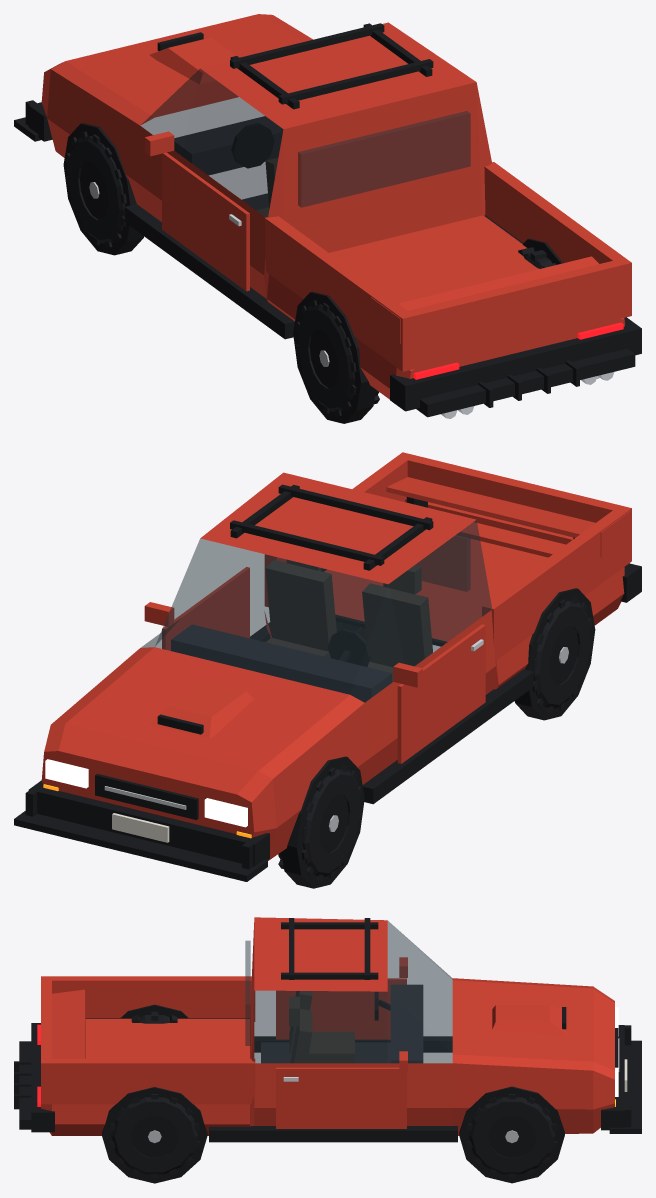
Rendered from pickup.glb.
3 views of the same model, one above another, from view 1: azimuth 30°, elevation 25°; view 2: azimuth 150°, elevation 25°; view 3: azimuth 270°, elevation 25° (orthographic). The views are drawn at different scales.
Visible parts, largest first — view 1: pickup, pickup_door_fl, pickup_wheel_rl, pickup_wheel_fl; view 2: pickup, pickup_door_fl, pickup_wheel_fl, pickup_wheel_rl, pickup_door_fr; view 3: pickup, pickup_door_fr, pickup_wheel_fr, pickup_wheel_rr, pickup_door_fl, pickup_wheel_rl.
Part boxes in pixels (x1,y1,x2,y2): pickup: [14, 14, 641, 423]; pickup_door_fl: [162, 152, 249, 291]; pickup_wheel_rl: [296, 300, 379, 416]; pickup_wheel_fl: [66, 131, 126, 247]; pickup: [14, 452, 641, 888]; pickup_door_fl: [397, 624, 485, 763]; pickup_wheel_fl: [278, 765, 362, 881]; pickup_wheel_rl: [532, 596, 592, 712]; pickup_door_fr: [162, 567, 249, 650]; pickup: [14, 917, 641, 1183]; pickup_door_fr: [276, 1067, 406, 1128]; pickup_wheel_fr: [466, 1094, 557, 1177]; pickup_wheel_rr: [109, 1094, 200, 1177]; pickup_door_fl: [276, 978, 406, 1039]; pickup_wheel_rl: [131, 1011, 177, 1023].
Size of the model in its own units: 2.26 by 1.96 by 5.8.
